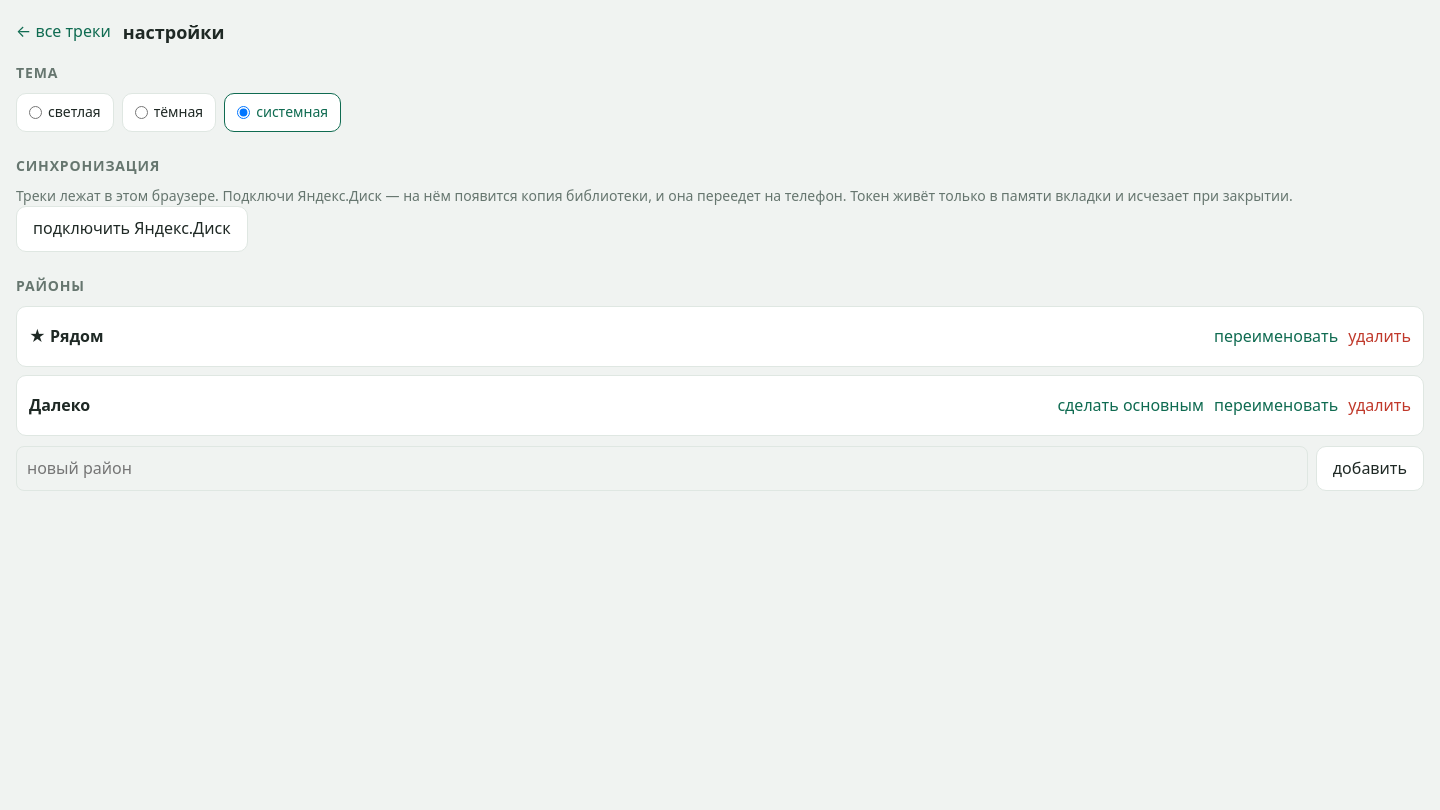
создание района: имя + «добавить» → район появляется в списке
The width and height of the screenshot is (1440, 810).
Check: the text "Рядом" is shown, box [50,325,104,347]
In the field named "имя нового района": (662, 469) [16,446,1308,491], type "Хамар-Дабан"
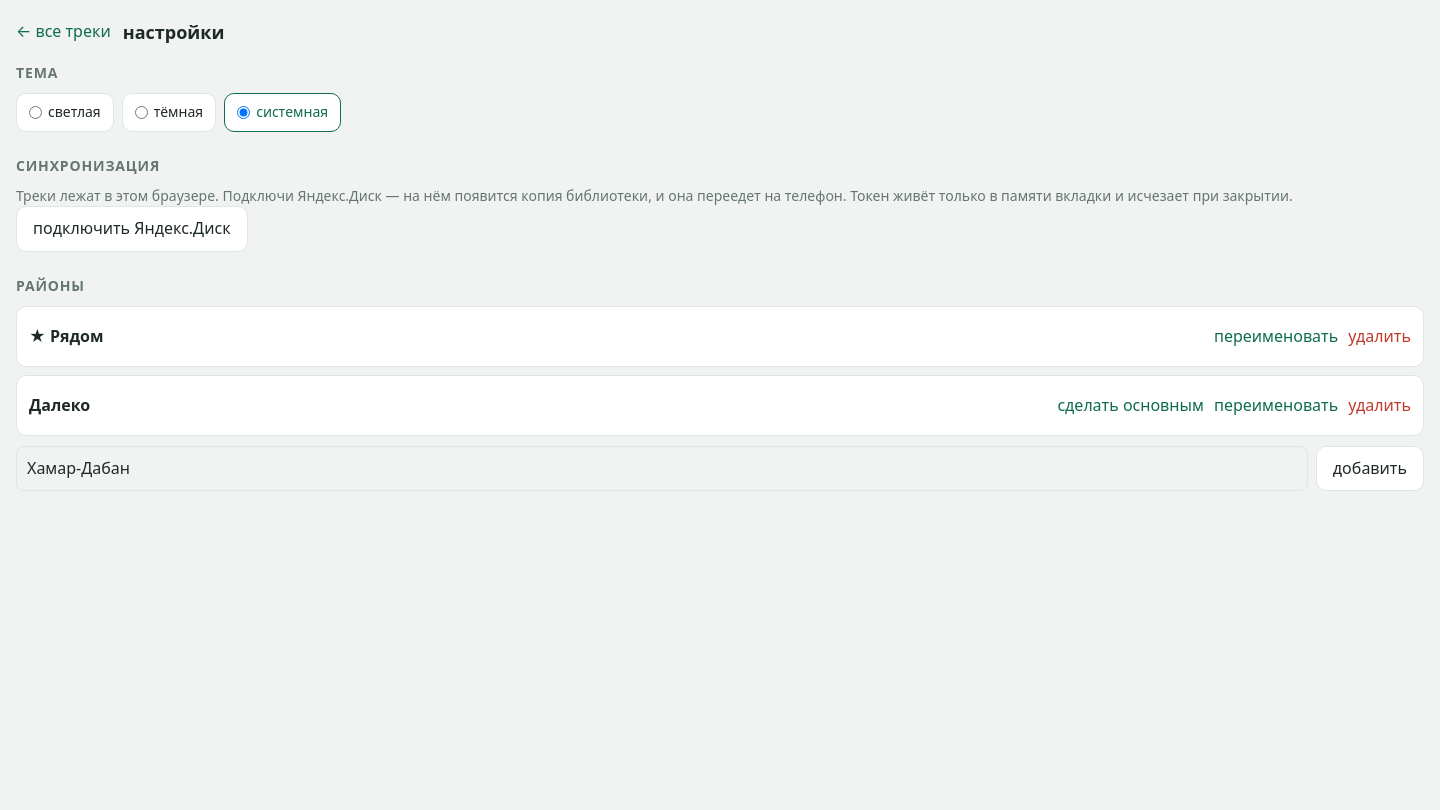
Click the button "добавить": (1370, 469) [1316,446,1424,491]
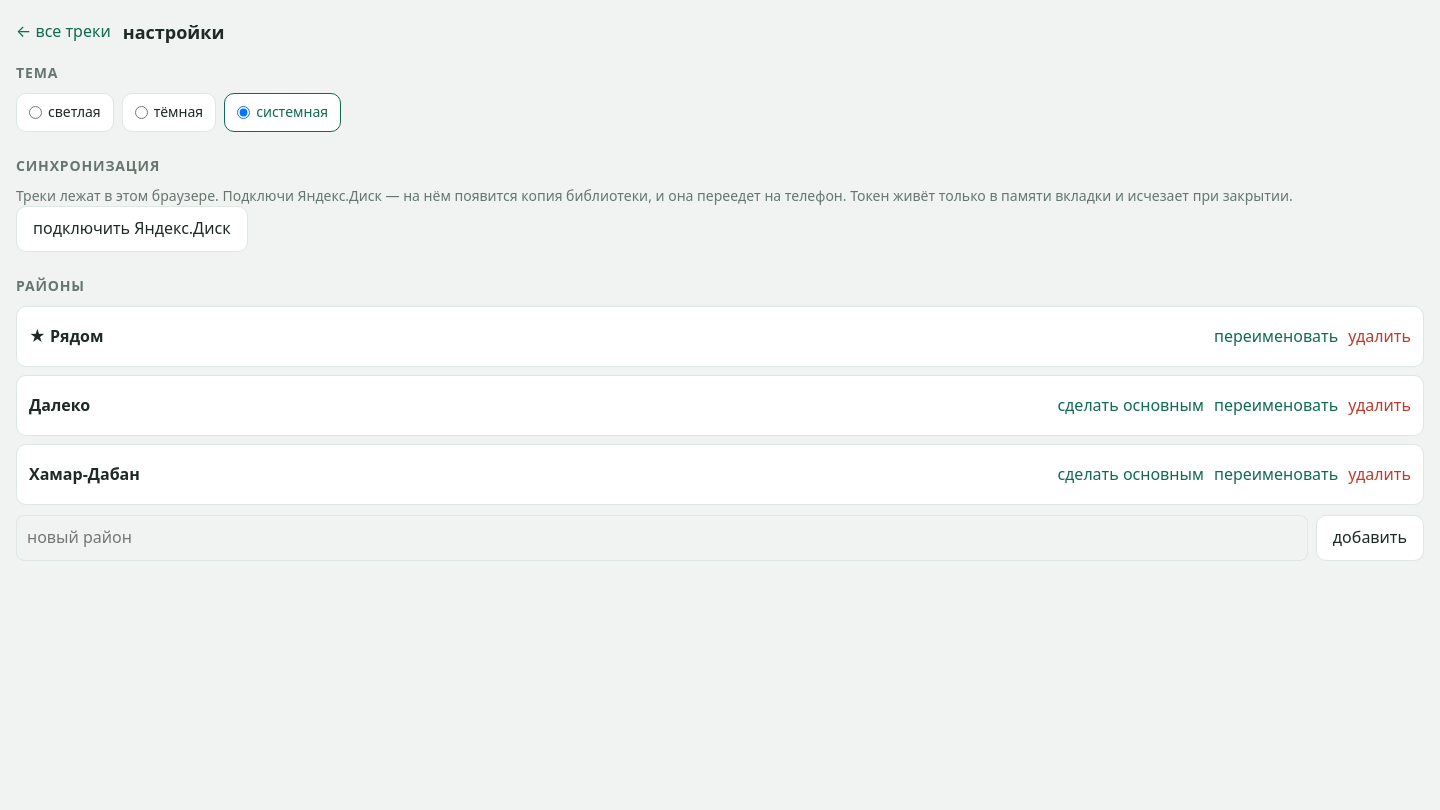
Check: the text "Хамар-Дабан" is shown, box [29,463,140,485]
